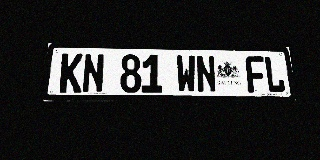1: (142, 55, 162, 93)
8: (120, 54, 141, 93)
F: (245, 56, 267, 92)
K: (59, 54, 83, 93)
L: (264, 56, 286, 92)
N: (82, 54, 105, 93), (196, 55, 217, 93)
W: (176, 55, 197, 93)
